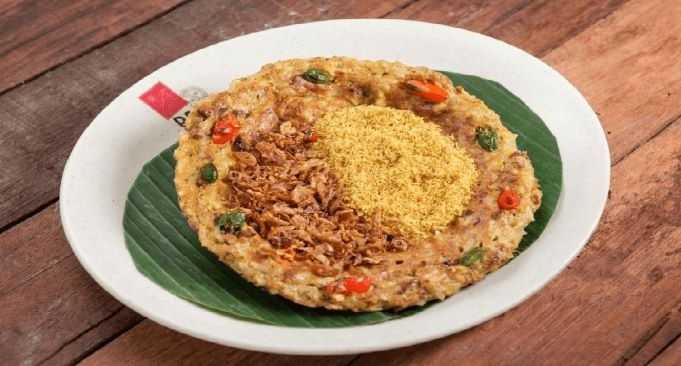kerak_telor: (166, 46, 551, 324)
